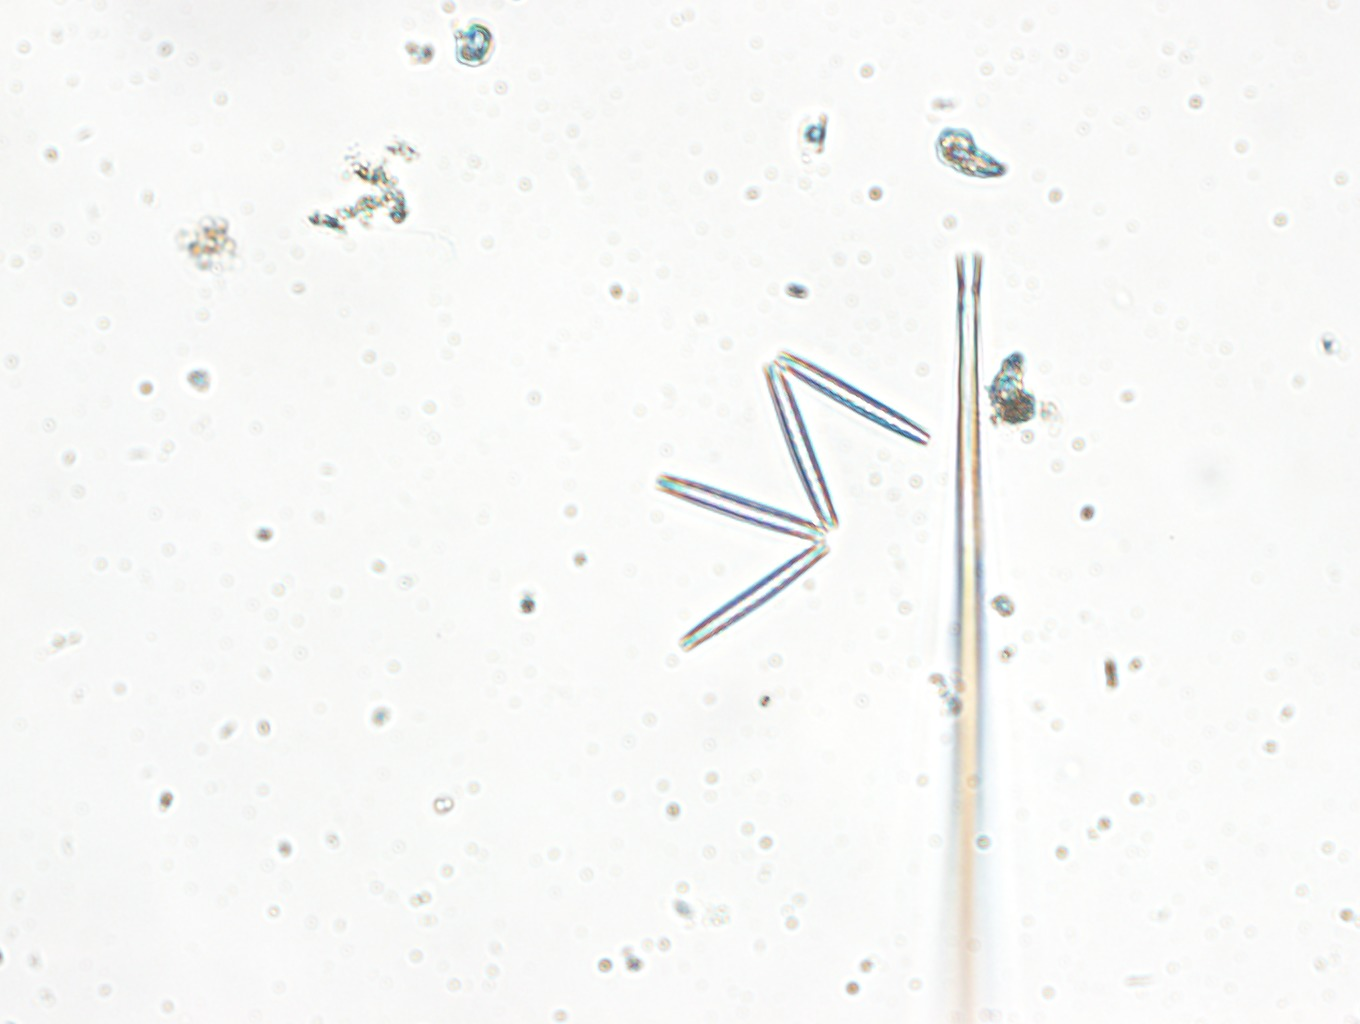thalassionema nitzschioides: (655, 353, 930, 650)
